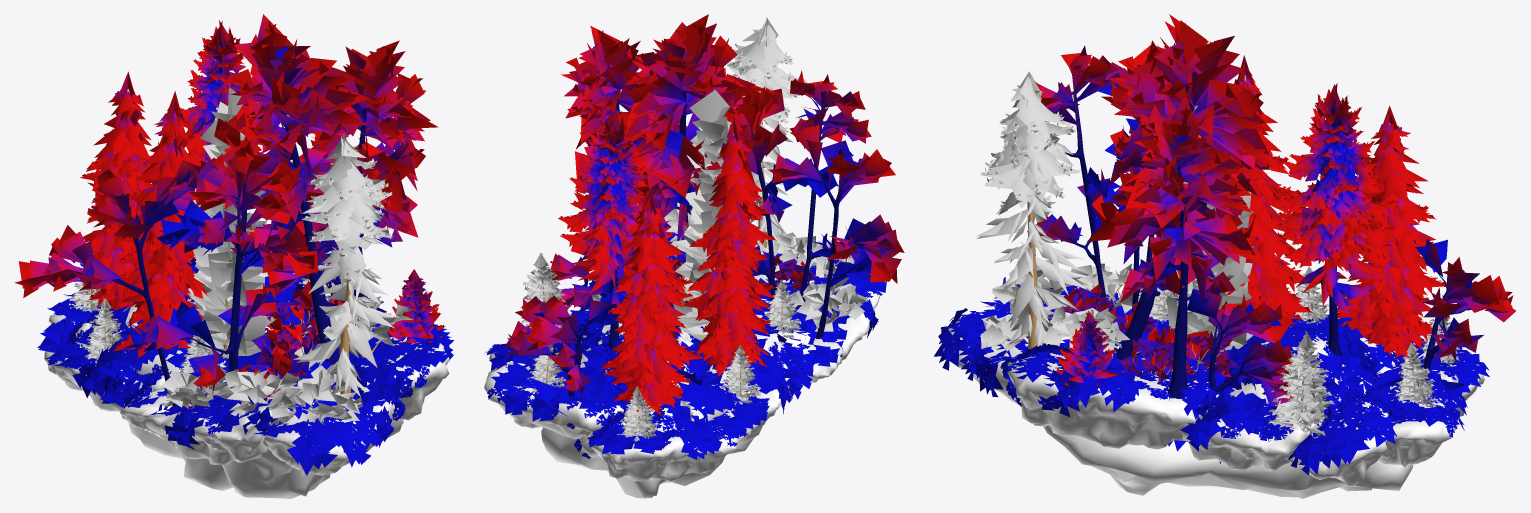
The picture shows the model from 3 angles, left to right: view 1: azimuth 30°, elevation 25°; view 2: azimuth 150°, elevation 25°; view 3: azimuth 270°, elevation 25°; orthographic projection. The views are drawn at different scales.
Parts seen in each view (by area): view 1: Plane.018; view 2: Plane.018; view 3: Plane.018.
Part boxes in pixels (x1,y1,x2,y2): Plane.018: [14, 14, 453, 498]; Plane.018: [484, 14, 904, 498]; Plane.018: [934, 14, 1515, 498].
Size of the model in its own units: 2033 by 2299 by 2499.
